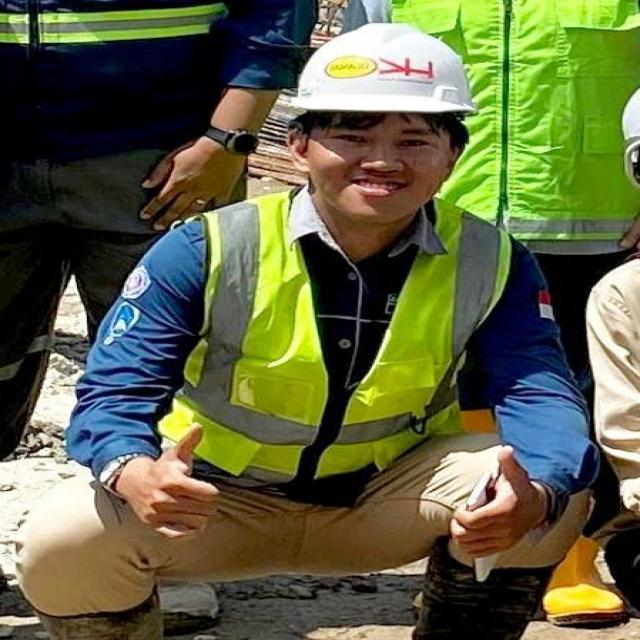safetyhelmet: (281, 22, 476, 184)
